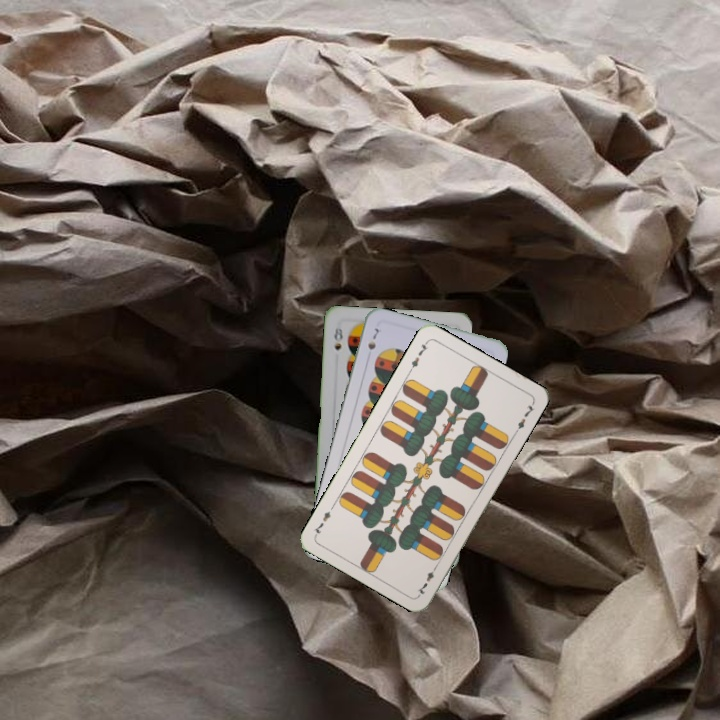E7: (414, 561, 441, 598), (405, 337, 431, 374)
S7: (364, 324, 381, 352)
S8: (330, 320, 345, 352)
